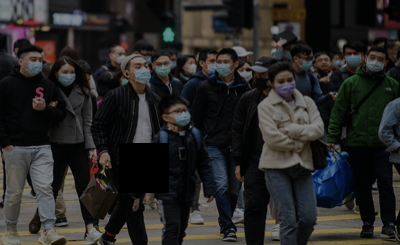with_mask: (133, 61, 152, 85), (275, 77, 296, 97), (172, 107, 192, 127), (366, 54, 385, 73), (57, 69, 77, 87), (26, 56, 43, 77), (216, 58, 233, 78), (155, 59, 171, 78), (253, 72, 268, 91), (345, 51, 361, 67), (238, 67, 253, 83), (301, 55, 315, 72), (205, 58, 217, 75), (143, 51, 155, 66), (186, 60, 197, 75), (115, 51, 126, 65), (284, 47, 293, 60), (332, 56, 340, 67), (171, 56, 177, 70)
without_mask: (316, 56, 330, 71)
